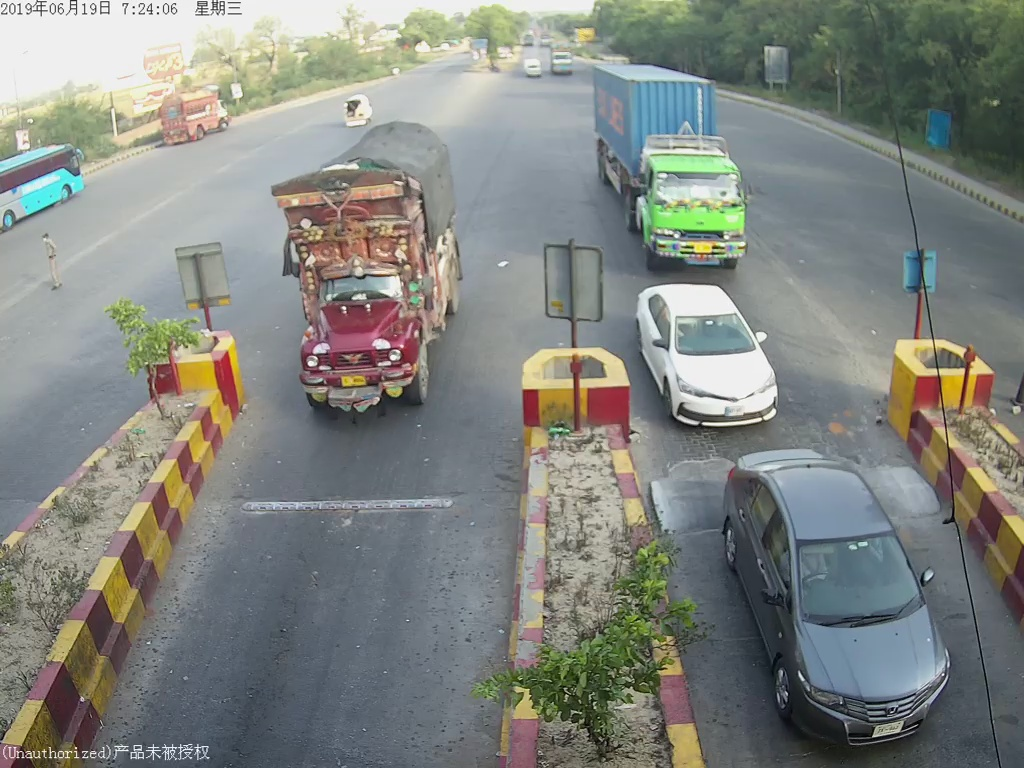Cat-1: (719, 446, 988, 744), (634, 281, 783, 433)
Cat-4: (265, 128, 474, 428)
Cat-5: (595, 57, 763, 271)
